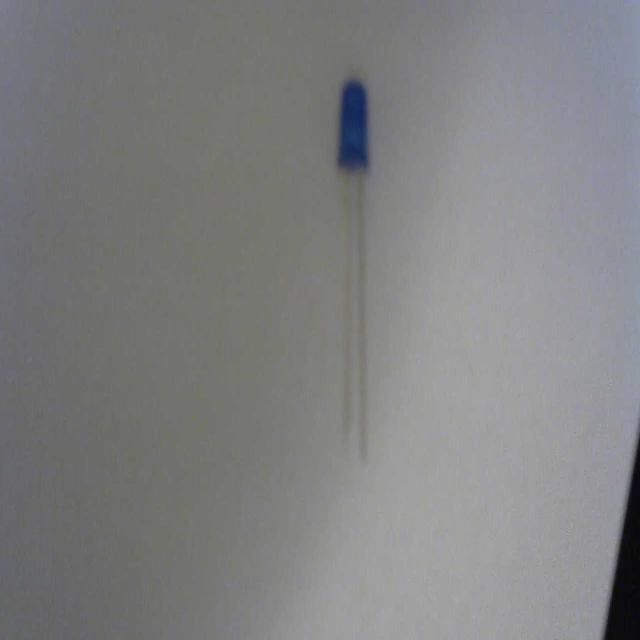blue_led: (337, 77, 369, 171)
